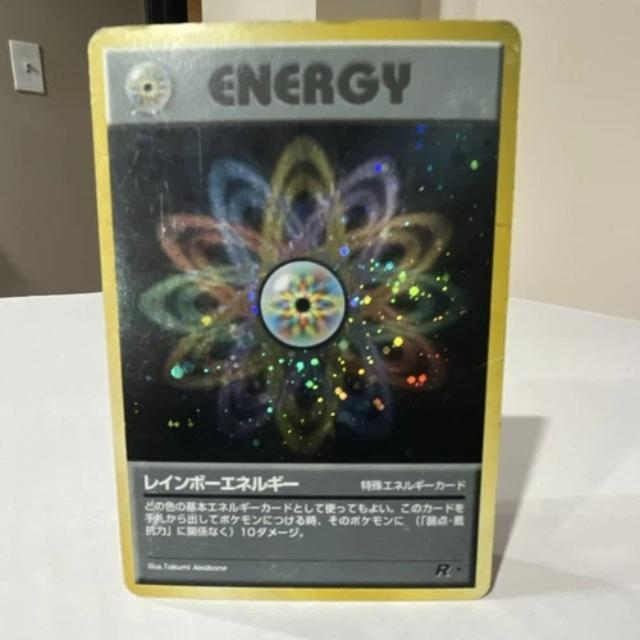Card: (82, 15, 525, 605)
Name: (137, 468, 307, 499)
